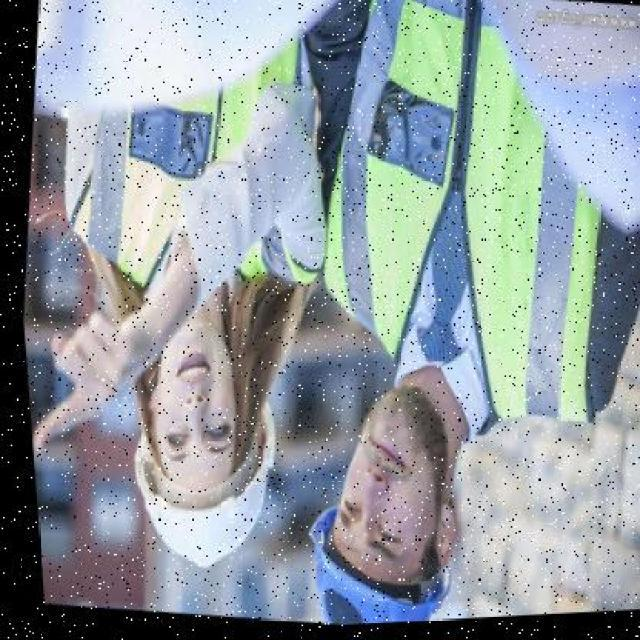helmet: (97, 414, 289, 592), (285, 494, 454, 628)
vest: (273, 0, 638, 458)
